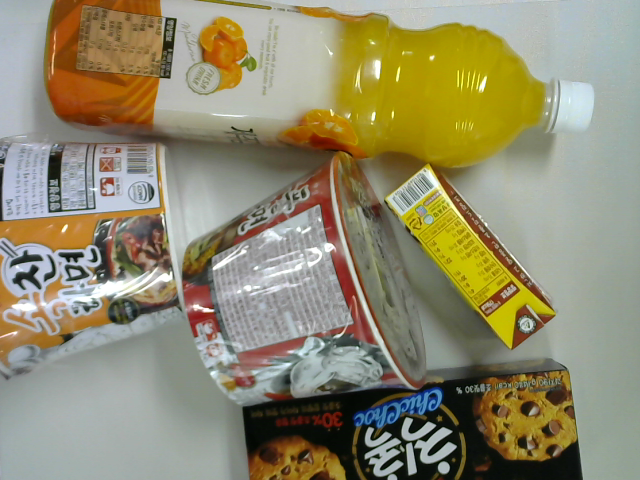Chicchok_Original_2400: (242, 356, 588, 480)
Choco_E_Mong: (381, 163, 561, 352)
Hejangchan: (1, 134, 189, 382)
Hejangpul: (179, 148, 430, 409)
Jeju_Tangerine_1.5L: (41, 1, 598, 172)
